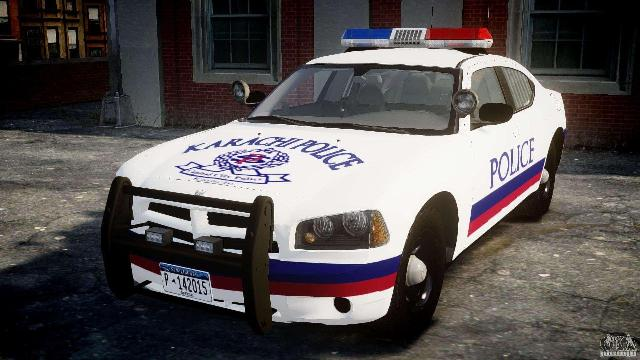police_car: (92, 23, 576, 360)
